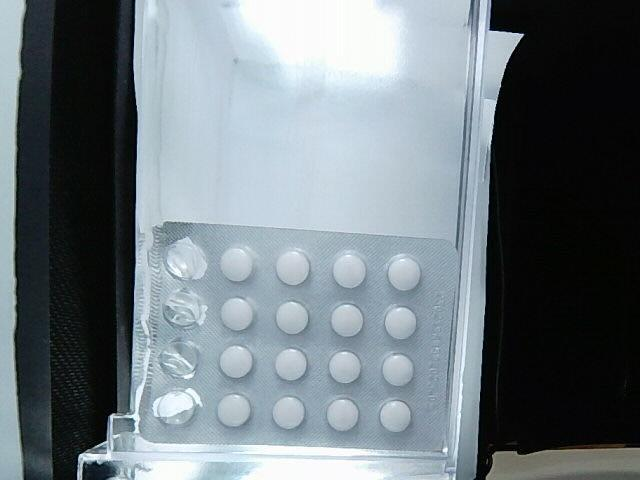Light Front: (136, 222, 460, 455)
No Pill Front: (164, 238, 207, 280), (163, 289, 208, 328), (153, 389, 203, 424), (159, 339, 199, 379)
Pill Front: (331, 250, 367, 288), (386, 254, 421, 290), (275, 249, 310, 285), (221, 248, 254, 282), (273, 395, 306, 429), (275, 301, 308, 334), (330, 304, 363, 337), (220, 345, 253, 378), (221, 298, 253, 331), (275, 348, 307, 381), (326, 398, 358, 431), (385, 306, 416, 339), (381, 354, 413, 385), (329, 351, 361, 382), (380, 400, 411, 432), (218, 395, 250, 426)
